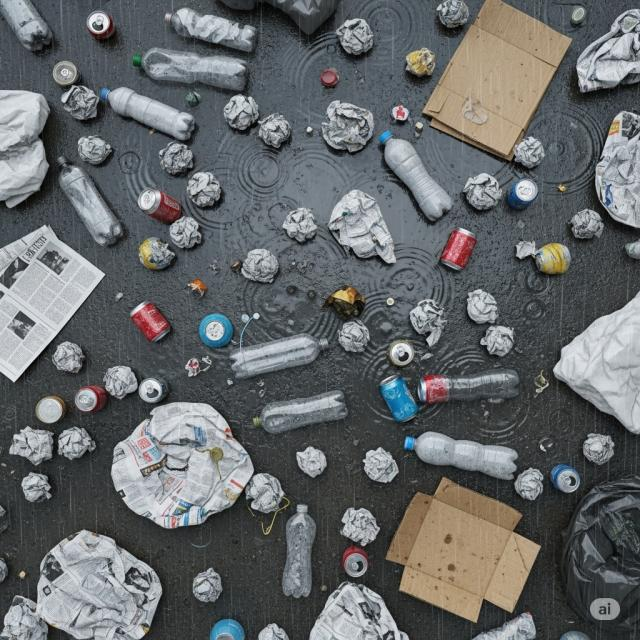aluminum: (128, 301, 182, 348), (135, 187, 187, 222), (72, 383, 107, 413), (86, 10, 118, 42)
paper: (108, 404, 254, 528), (39, 525, 169, 640), (551, 285, 640, 433), (326, 186, 399, 268), (575, 7, 640, 98), (594, 110, 640, 231), (321, 96, 373, 156), (336, 19, 376, 56)
plastic: (376, 129, 458, 224), (52, 152, 128, 249), (98, 80, 201, 146), (129, 43, 251, 96), (398, 429, 523, 476), (229, 334, 332, 378), (160, 9, 263, 53), (254, 390, 349, 430), (280, 501, 317, 596), (0, 0, 58, 57), (197, 314, 232, 348)
